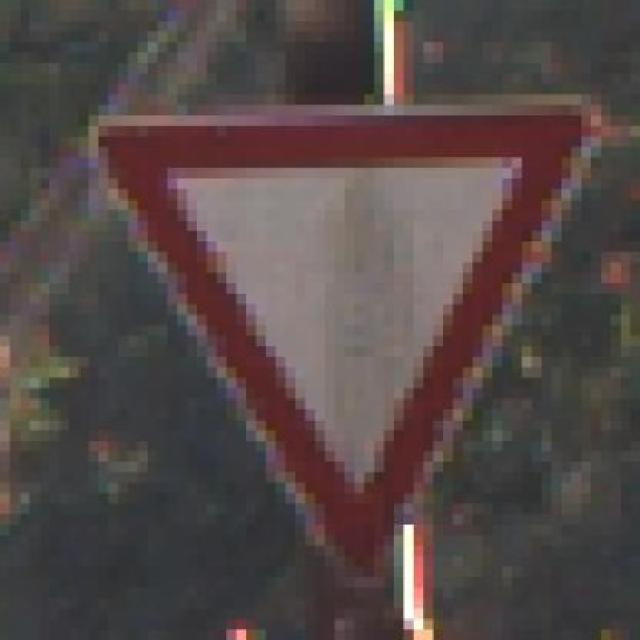Give Way: (78, 84, 591, 598)
